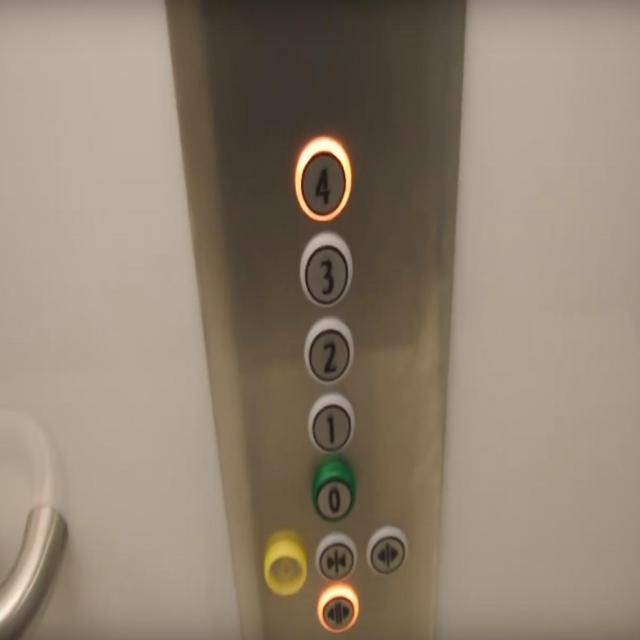0: (309, 454, 355, 522)
1: (306, 391, 354, 454)
2: (303, 314, 354, 384)
3: (298, 229, 354, 310)
4: (292, 133, 352, 223)
blur: (262, 530, 308, 600)
close: (314, 529, 358, 582)
open: (316, 581, 360, 635), (366, 524, 408, 578)
